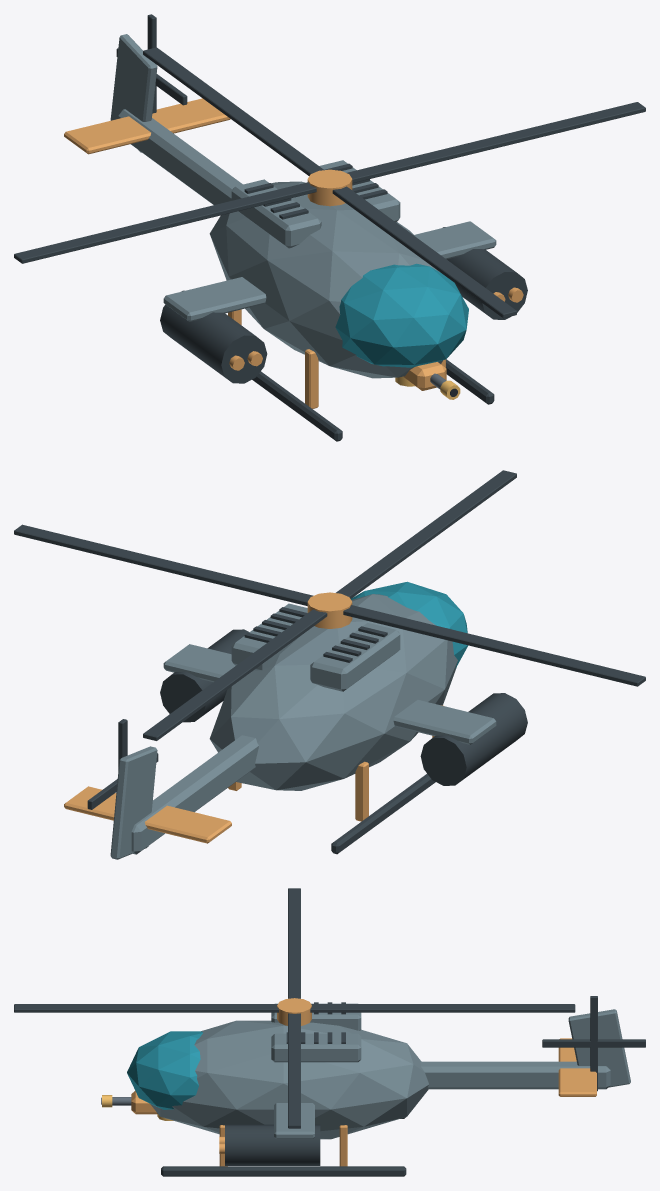
File: boss-helicopter.glb
The picture shows the model from 3 angles, top to bottom: view 1: azimuth 30°, elevation 25°; view 2: azimuth 150°, elevation 25°; view 3: azimuth 270°, elevation 25°; orthographic projection. The views are drawn at different scales.
Parts seen in each view (by area): view 1: Armored fuselage, Rotor blade, Cockpit glazing, Landing skid, Nose keel, Rotor hub, Tail blade; view 2: Armored fuselage, Rotor blade, Landing skid, Nose keel, Cockpit glazing, Rotor hub, Tail blade; view 3: Armored fuselage, Rotor blade, Landing skid, Cockpit glazing, Nose keel, Tail blade, Rotor hub.
Part boxes in pixels (left/top/right/bottom): Armored fuselage: left=110, top=34, right=496, bottom=378; Rotor blade: left=14, top=47, right=645, bottom=318; Cockpit glazing: left=335, top=263, right=468, bottom=367; Landing skid: left=160, top=163, right=527, bottom=441; Nose keel: left=64, top=98, right=523, bottom=408; Rotor hub: left=307, top=169, right=352, bottom=206; Tail blade: left=116, top=14, right=187, bottom=113; Armored fuselage: left=110, top=594, right=496, bottom=859; Rotor blade: left=14, top=470, right=645, bottom=740; Landing skid: left=160, top=607, right=527, bottom=854; Nose keel: left=64, top=705, right=444, bottom=843; Cockpit glazing: left=351, top=581, right=468, bottom=668; Rotor hub: left=307, top=592, right=352, bottom=628; Tail blade: left=87, top=719, right=158, bottom=809; Armored fuselage: left=150, top=1003, right=630, bottom=1139; Rotor blade: left=14, top=888, right=575, bottom=1128; Landing skid: left=161, top=1002, right=406, bottom=1176; Cockpit glazing: left=127, top=1031, right=202, bottom=1109; Nose keel: left=131, top=1038, right=596, bottom=1166; Tail blade: left=542, top=996, right=645, bottom=1091; Rotor hub: left=277, top=998, right=311, bottom=1025.
Bounding box in the file's own units: 10.3 × 3.16 × 11.6.
